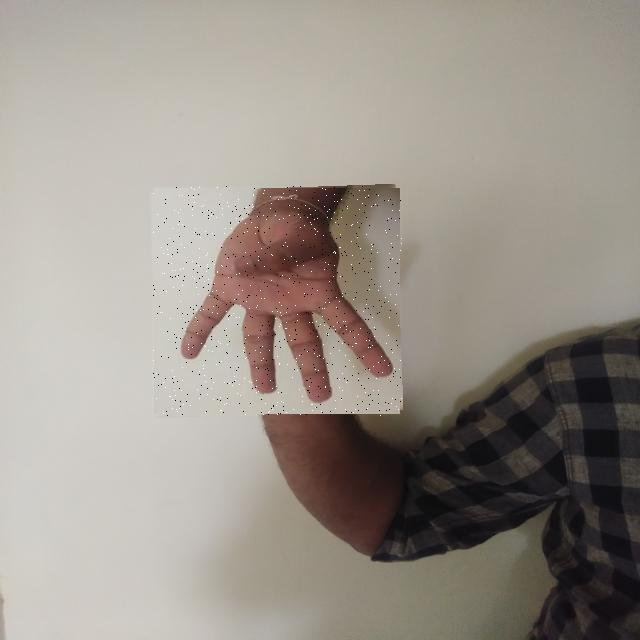Thanks: (152, 186, 402, 416)
